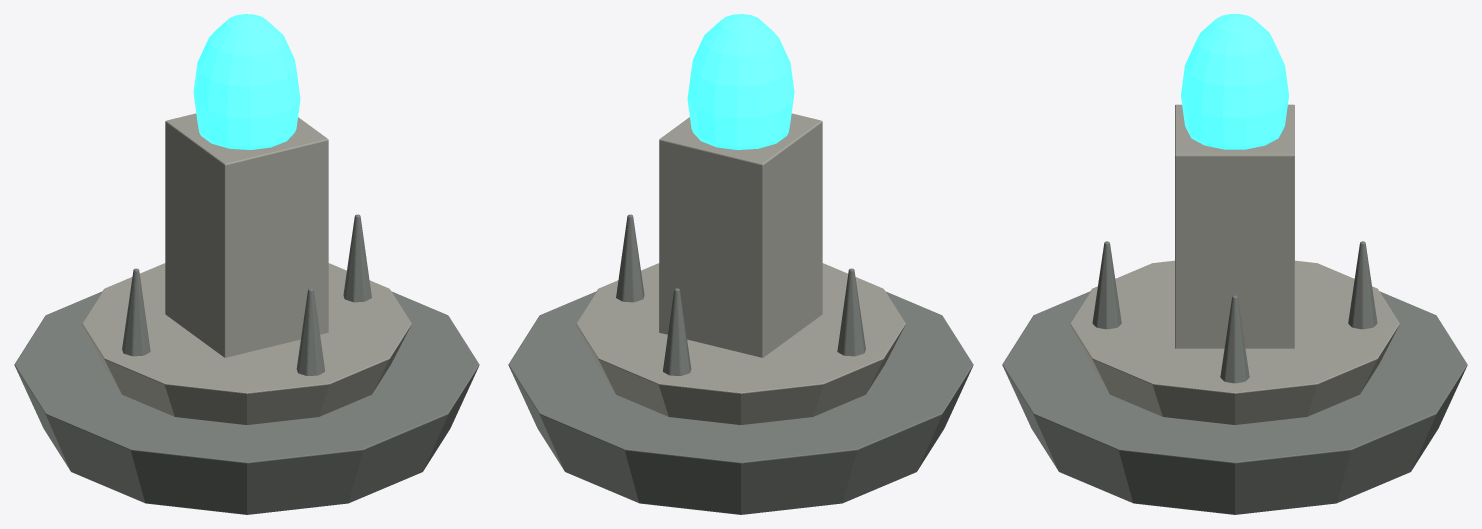
File: SM_AltarOfSteve.fbx
The picture shows the model from 3 angles, left to right: view 1: azimuth 30°, elevation 25°; view 2: azimuth 150°, elevation 25°; view 3: azimuth 270°, elevation 25°; orthographic projection.
Parts seen in each view (by area): view 1: SM_AltarOfSteve; view 2: SM_AltarOfSteve; view 3: SM_AltarOfSteve.
Part boxes in pixels (box(x1,y1,x2,y2)): SM_AltarOfSteve: box(14, 14, 479, 514); SM_AltarOfSteve: box(508, 14, 973, 514); SM_AltarOfSteve: box(1002, 14, 1467, 514).
Bounding box in the file's own units: 309 × 309 × 303.
